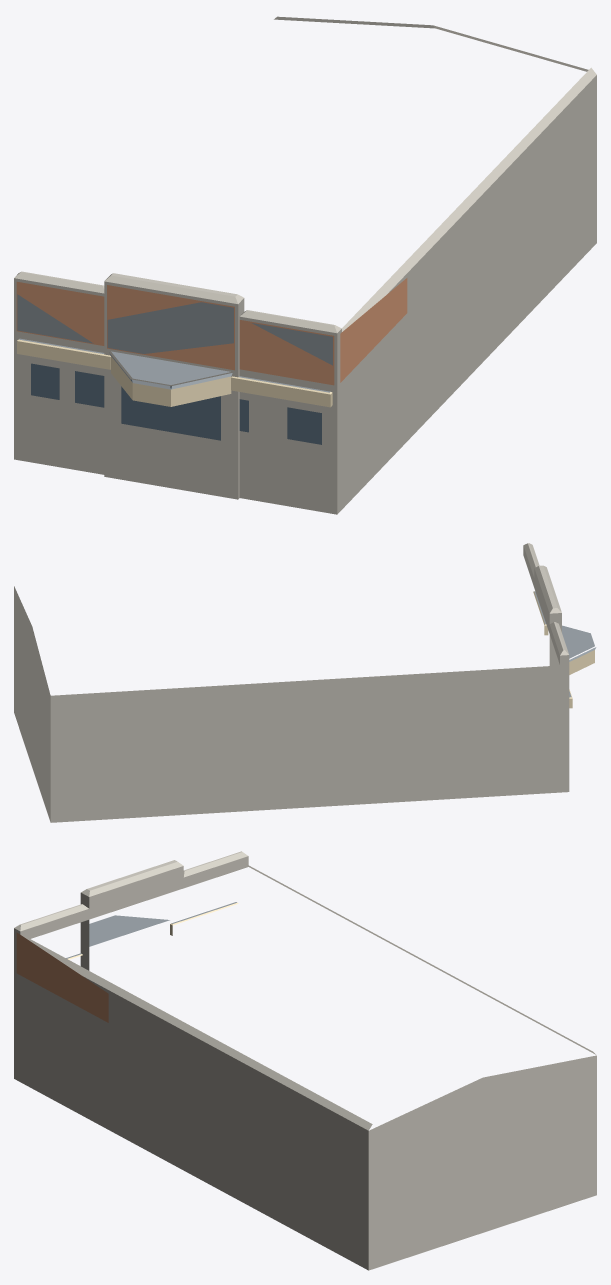
File: detail.glb
The picture shows the model from 3 angles, top to bottom: view 1: azimuth 30°, elevation 25°; view 2: azimuth 150°, elevation 25°; view 3: azimuth 270°, elevation 25°; orthographic projection. The views are drawn at different scales.
Parts seen in each view (by area): view 1: neighborhood-theatre; view 2: neighborhood-theatre; view 3: neighborhood-theatre.
Part boxes in pixels (<box>): neighborhood-theatre: <box>14,16,596,514</box>; neighborhood-theatre: <box>14,543,596,822</box>; neighborhood-theatre: <box>14,851,596,1270</box>.
Size of the model in its own units: 36.92 by 10.7 by 34.
